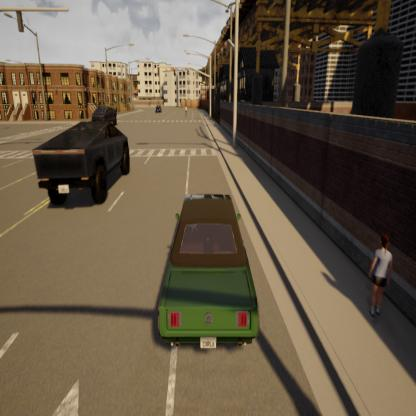Cars: (147, 175, 272, 365), (20, 100, 130, 222), (85, 84, 117, 136), (150, 87, 171, 129)
Pedestrian: (364, 210, 400, 356)
